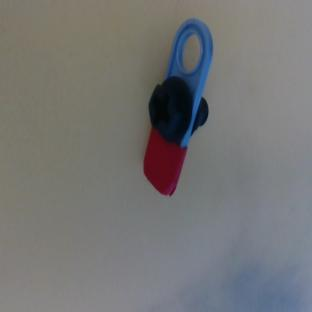part_1_good: (115, 14, 241, 198)
